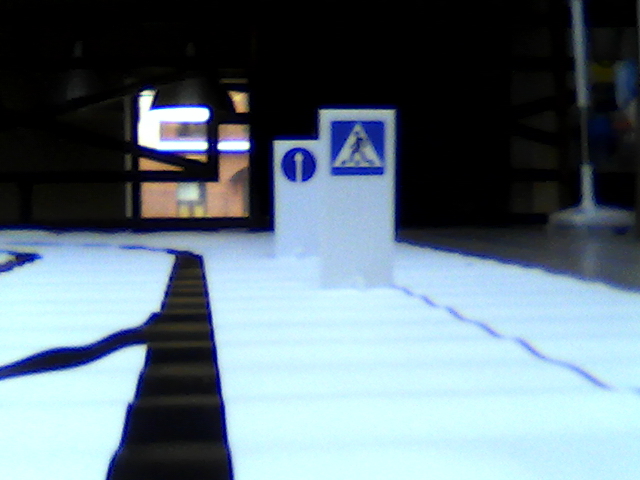forw: (280, 146, 316, 181)
pesh: (331, 118, 380, 176)
